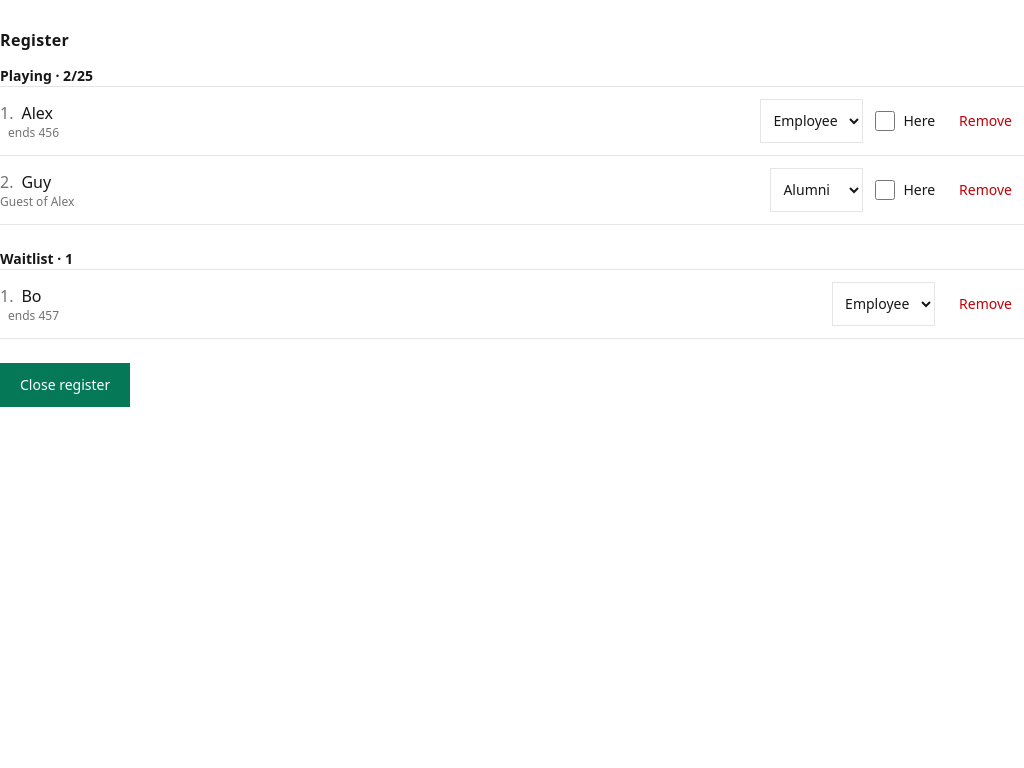
closing the register › previews the counts and who is put on hold before it closes anything
Click the button "Close register". click: (65, 385)
box: [0,363,130,407]
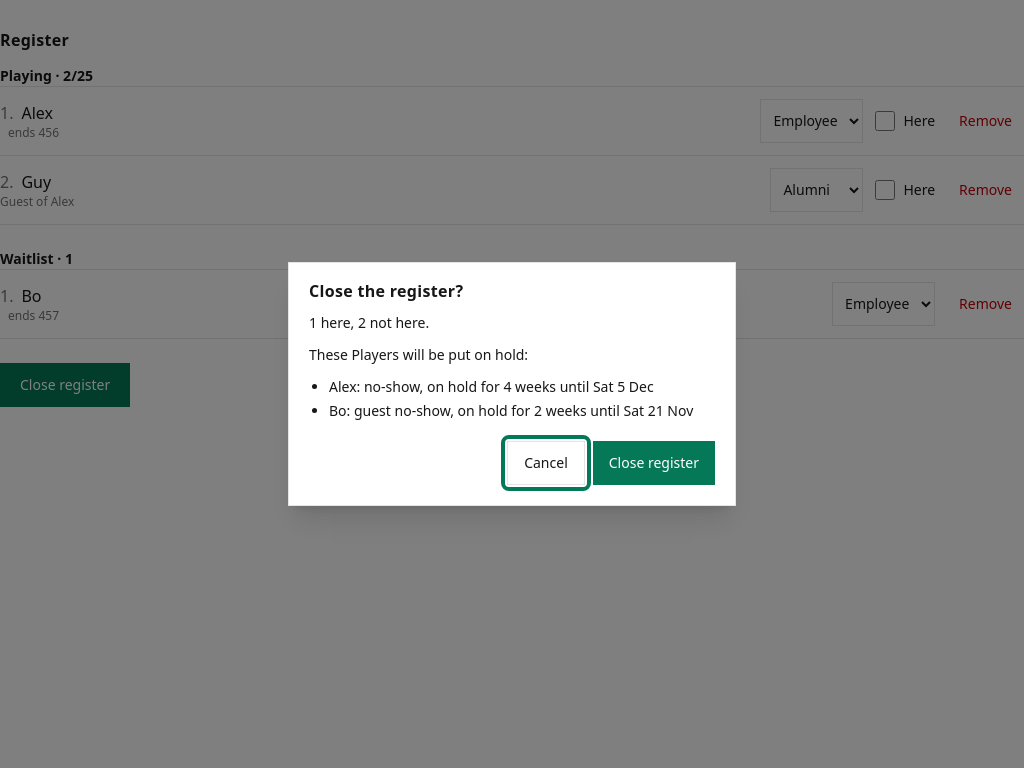
Now the text "1 here, 2 not here." is shown, box [309,313,429,332]
Now the list item "Alex: no-show, on hold for 4 weeks until Sat 5 Dec" is shown, box [329,377,654,396]
Now the list item "Bo: guest no-show, on hold for 2 weeks until Sat 21 Nov" is shown, box [329,401,715,421]
Click the button "Close register". click: (654, 463)
box: [593,441,715,485]
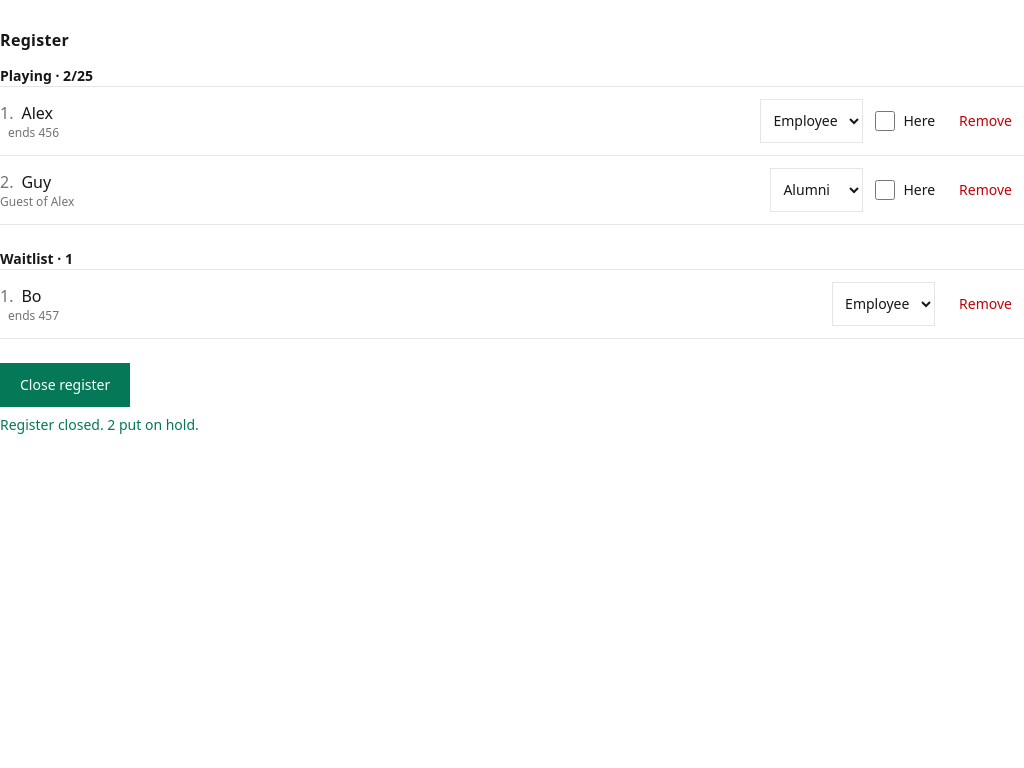
Now the text "Register closed. 2 put on hold." is shown, box [0,415,199,434]
Now the dialog is gone
